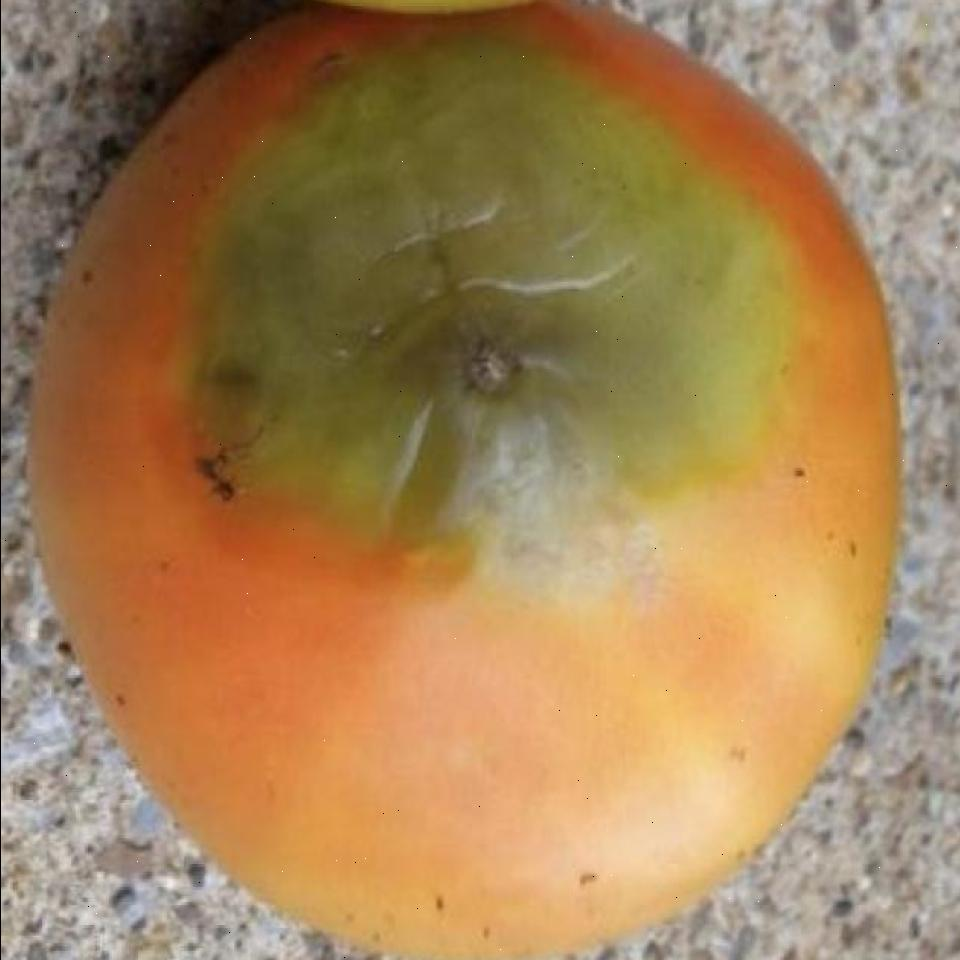Sunscald: (178, 42, 808, 590)
